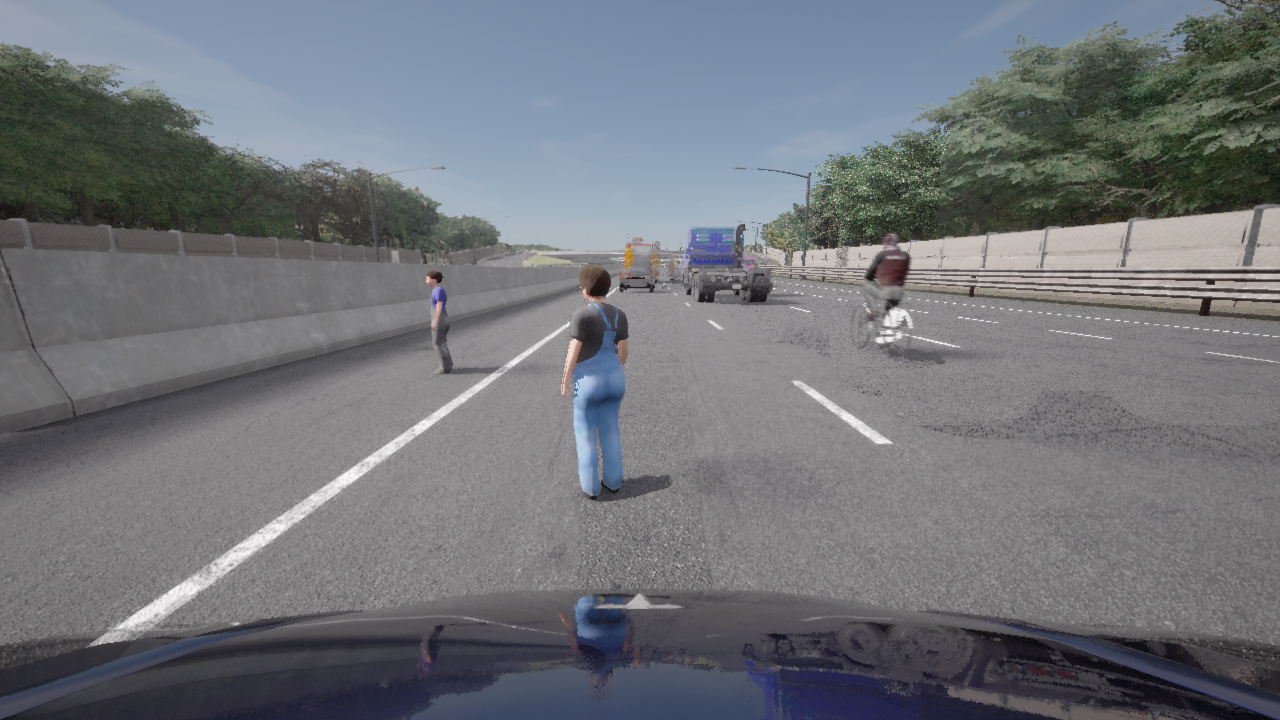cyclist: (0, 588, 1279, 719), (678, 223, 771, 302), (851, 280, 912, 360), (625, 236, 660, 282), (618, 265, 654, 292), (665, 255, 683, 280), (744, 258, 758, 268)
pedestrian: (562, 264, 629, 499), (426, 269, 453, 373), (443, 261, 445, 264)
